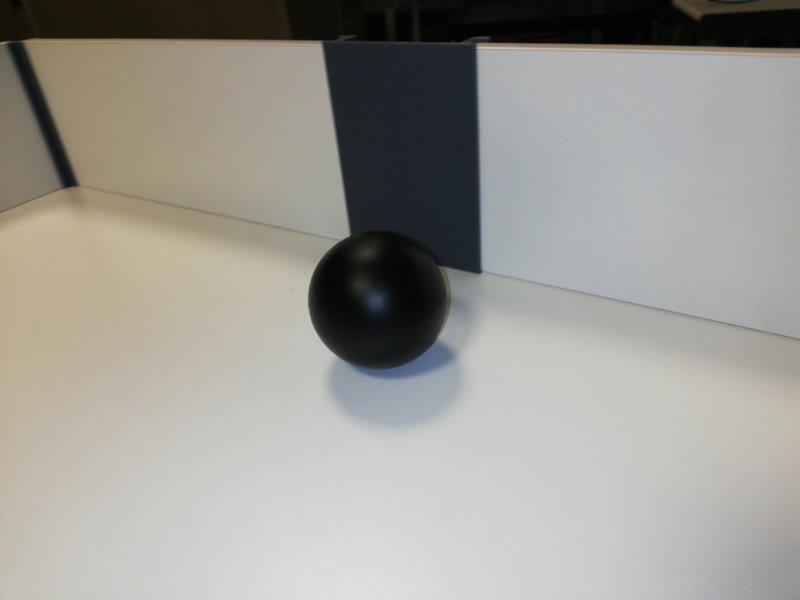nera: (308, 230, 446, 369)
